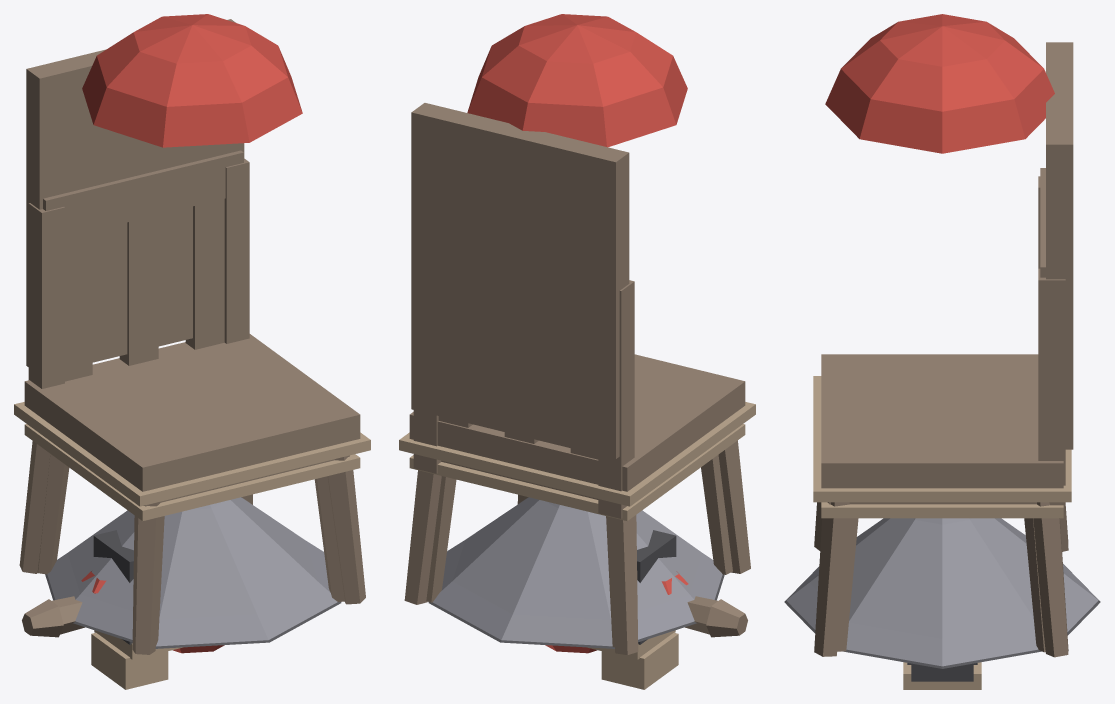
Rendered from props.glb.
3 renders of one model, left to right at view 1: azimuth 30°, elevation 25°; view 2: azimuth 150°, elevation 25°; view 3: azimuth 270°, elevation 25°, orthographic. The views are drawn at different scales.
Parts seen in each view (by area): view 1: PropThrone, PropChair, PropLamp, PropShoe, PropGavel; view 2: PropThrone, PropLamp, PropChair, PropShoe, PropGavel; view 3: PropThrone, PropLamp, PropChair, PropShoe.
Part boxes in pixels (x1,y1,x2,y2): PropThrone: [14, 14, 370, 654]; PropChair: [24, 150, 360, 645]; PropLamp: [45, 497, 341, 648]; PropShoe: [91, 530, 182, 689]; PropGavel: [22, 596, 84, 637]; PropThrone: [399, 14, 755, 655]; PropLamp: [428, 497, 724, 648]; PropChair: [409, 280, 745, 647]; PropShoe: [587, 530, 678, 689]; PropGavel: [685, 596, 747, 637]; PropThrone: [813, 14, 1073, 657]; PropLamp: [784, 518, 1100, 668]; PropChair: [821, 168, 1065, 652]; PropShoe: [903, 662, 981, 689].
Size of the model in its own units: 0.905 by 1.83 by 0.81.
